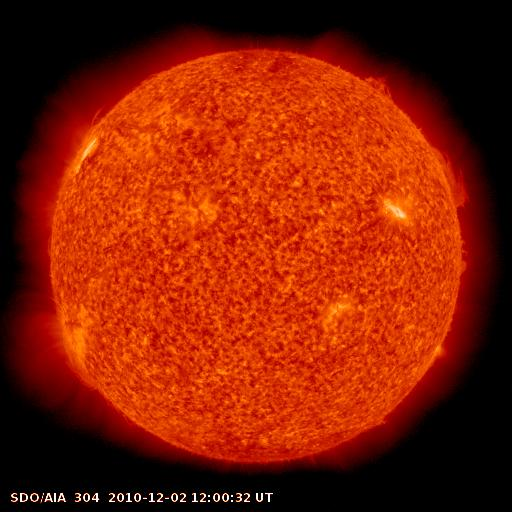prominence: (422, 131, 479, 217), (358, 63, 400, 107), (447, 228, 483, 277)
